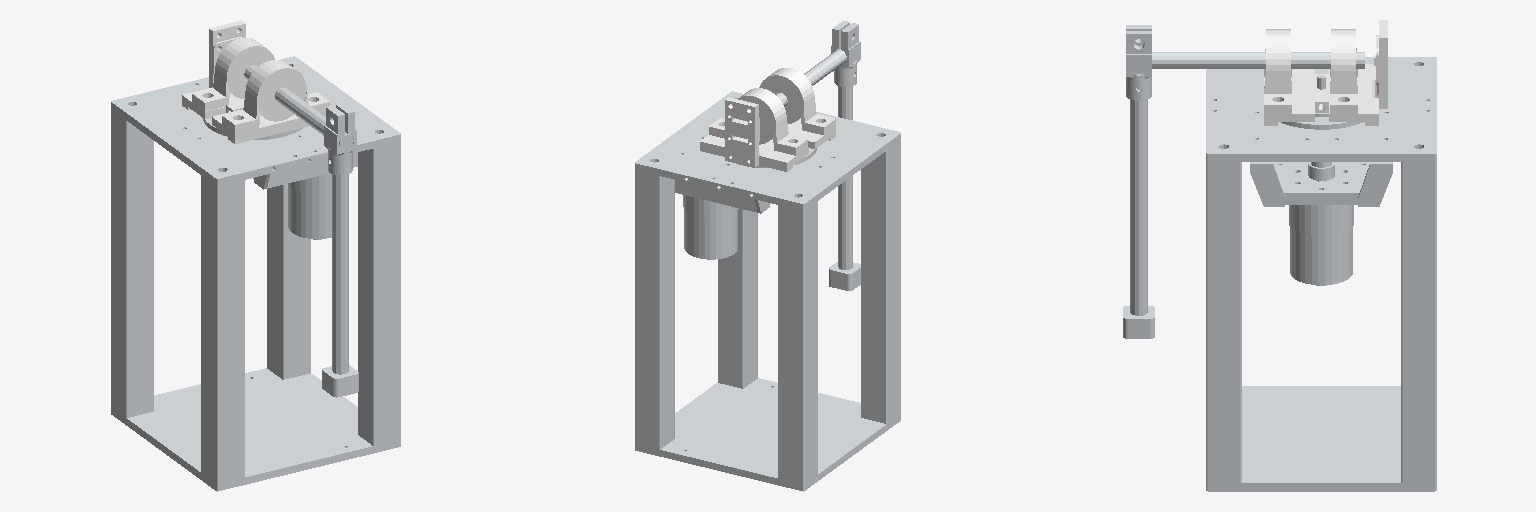
The robot description file, URDF, robot "rlr_urdf":
<?xml version="1.0" encoding="utf-8"?>
<!-- This URDF was automatically created by SolidWorks to URDF Exporter! Originally created by [author] ([email redacted]) 
     Commit Version: 1.6.0-4-g7f85cfe  Build Version: 1.6.7995.38578
     For more information, please see http://wiki.ros.org/sw_urdf_exporter -->
<robot
  name="rlr_urdf">
  <link name="world"/>
  <joint name="base_joint" type="fixed">
    <parent link="world"/>
    <child link="base_link"/>
    <origin rpy="0 0 0" xyz="0.0 0.0 0.0"/>
  </joint>
  <link
    name="base_link">
    <inertial>
      <origin
        xyz="0.0034218 1.0377E-17 0.11552"
        rpy="0 0 0" />
      <mass
        value="1.1848" />
      <inertia
        ixx="0.003116"
        ixy="-5.6579E-21"
        ixz="4.7002E-09"
        iyy="0.003136"
        iyz="-1.6353E-19"
        izz="0.00060234" />
    </inertial>
    <visual>
      <origin
        xyz="0 0 0"
        rpy="0 0 0" />
      <geometry>
        <mesh
          filename="package://urdf and meshes/with small weight/meshes/base_link.STL" />
      </geometry>
      <material
        name="">
        <color
          rgba="0.89804 0.91765 0.92941 1" />
      </material>
    </visual>
    <collision>
      <origin
        xyz="0 0 0"
        rpy="0 0 0" />
      <geometry>
        <mesh
          filename="package://urdf and meshes/with small weight/meshes/base_link.STL" />
      </geometry>
    </collision>
  </link>
  <link
    name="link1">
    <inertial>
      <origin
        xyz="-0.0047028 0.020543 -1.5632E-11"
        rpy="0 0 0" />
      <mass
        value="0.27755" />
      <inertia
        ixx="8.2467E-05"
        ixy="-2.3543E-06"
        ixz="-4.3357E-15"
        iyy="7.4118E-05"
        iyz="4.7567E-15"
        izz="4.5494E-05" />
    </inertial>
    <visual>
      <origin
        xyz="0 0 0"
        rpy="0 0 0" />
      <geometry>
        <mesh
          filename="package://urdf and meshes/with small weight/meshes/link1.STL" />
      </geometry>
      <material
        name="">
        <color
          rgba="1 1 1 1" />
      </material>
    </visual>
    <collision>
      <origin
        xyz="0 0 0"
        rpy="0 0 0" />
      <geometry>
        <mesh
          filename="package://urdf and meshes/with small weight/meshes/link1.STL" />
      </geometry>
    </collision>
  </link>
  <joint
    name="joint1"
    type="revolute">
    <origin
      xyz="0 0 0.213"
      rpy="1.5708 0 1.5708" />
    <parent
      link="base_link" />
    <child
      link="link1" />
    <axis
      xyz="0 1 0" />
    <limit
      lower="-3.14"
      upper="3.14"
      effort="0.07"
      velocity="46" />
  </joint>
  <link
    name="link2">
    <inertial>
      <origin
        xyz="3.2333E-06 -0.056272 -0.080033"
        rpy="0 0 0" />
      <mass
        value="0.074788" />
      <inertia
        ixx="0.00010461"
        ixy="-3.0229E-09"
        ixz="-1.9355E-12"
        iyy="4.4787E-05"
        iyz="1.418E-14"
        izz="6.1312E-05" />
    </inertial>
    <visual>
      <origin
        xyz="0 0 0"
        rpy="0 0 0" />
      <geometry>
        <mesh
          filename="package://urdf and meshes/with small weight/meshes/link2.STL" />
      </geometry>
      <material
        name="">
        <color
          rgba="0.89804 0.91765 0.92941 1" />
      </material>
    </visual>
    <collision>
      <origin
        xyz="0 0 0"
        rpy="0 0 0" />
      <geometry>
        <mesh
          filename="package://urdf and meshes/with small weight/meshes/link2.STL" />
      </geometry>
    </collision>
  </link>
  <joint
    name="joint2"
    type="continuous">
    <origin
      xyz="0 0.025 0"
      rpy="0 1.5708 0" />
    <parent
      link="link1" />
    <child
      link="link2" />
    <axis
      xyz="0 0 1" />
  </joint>
</robot>

--- What the picture shows (computed from the rendered views, not written in the file) ---
Views: 3 orthographic renders of the robot side by side, from view 1: azimuth 30°, elevation 25°; view 2: azimuth 150°, elevation 25°; view 3: azimuth 270°, elevation 25°.
Model rlr_urdf with 4 links and 3 joints (1 revolute, 1 continuous, 1 fixed), rooted at world, posed all joints at 0.
Links seen in each view (by area): view 1: base_link, link1, link2; view 2: base_link, link1, link2; view 3: base_link, link2, link1.
Link boxes in pixels (left/top/right/bottom): base_link: left=111, top=56, right=400, bottom=491; link1: left=182, top=20, right=329, bottom=143; link2: left=244, top=65, right=358, bottom=397; base_link: left=635, top=91, right=900, bottom=491; link1: left=700, top=68, right=835, bottom=171; link2: left=776, top=21, right=860, bottom=290; base_link: left=1206, top=57, right=1436, bottom=491; link2: left=1123, top=25, right=1364, bottom=338; link1: left=1264, top=20, right=1387, bottom=125.
Bounding box of the posed robot: 0.1325 × 0.177 × 0.2575 m (x, y, z).
Meshes: 3 distinct files referenced, 3 mesh visuals loaded (3 binary STL).